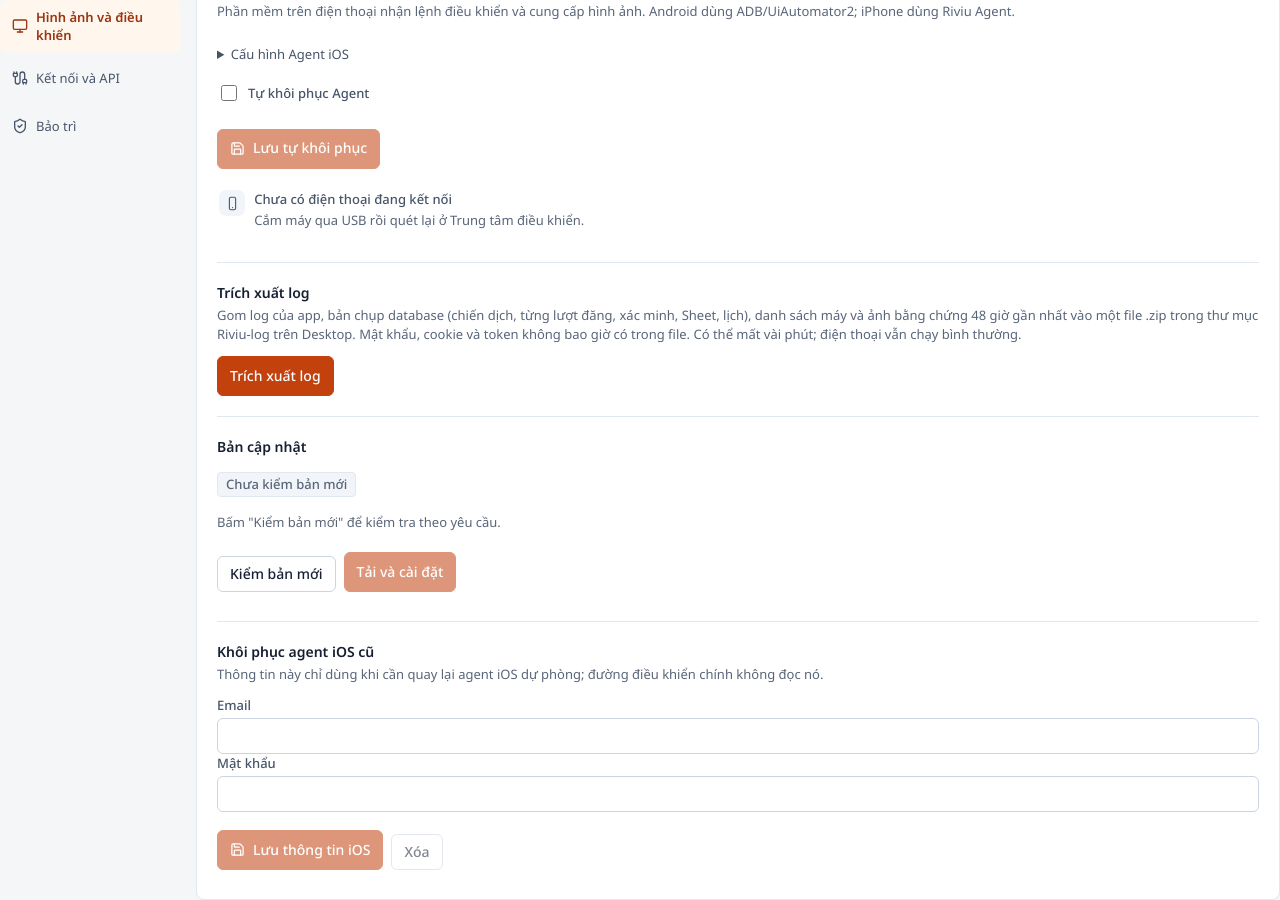
SettingsPanel update section › reports a surviving macOS install as success instead of an update error
This screenshot has width=1280, height=900.
(page scrolled)
Click the button "Kiểm bản mới" at [276, 574], box x1=217 y1=556 x2=336 y2=592
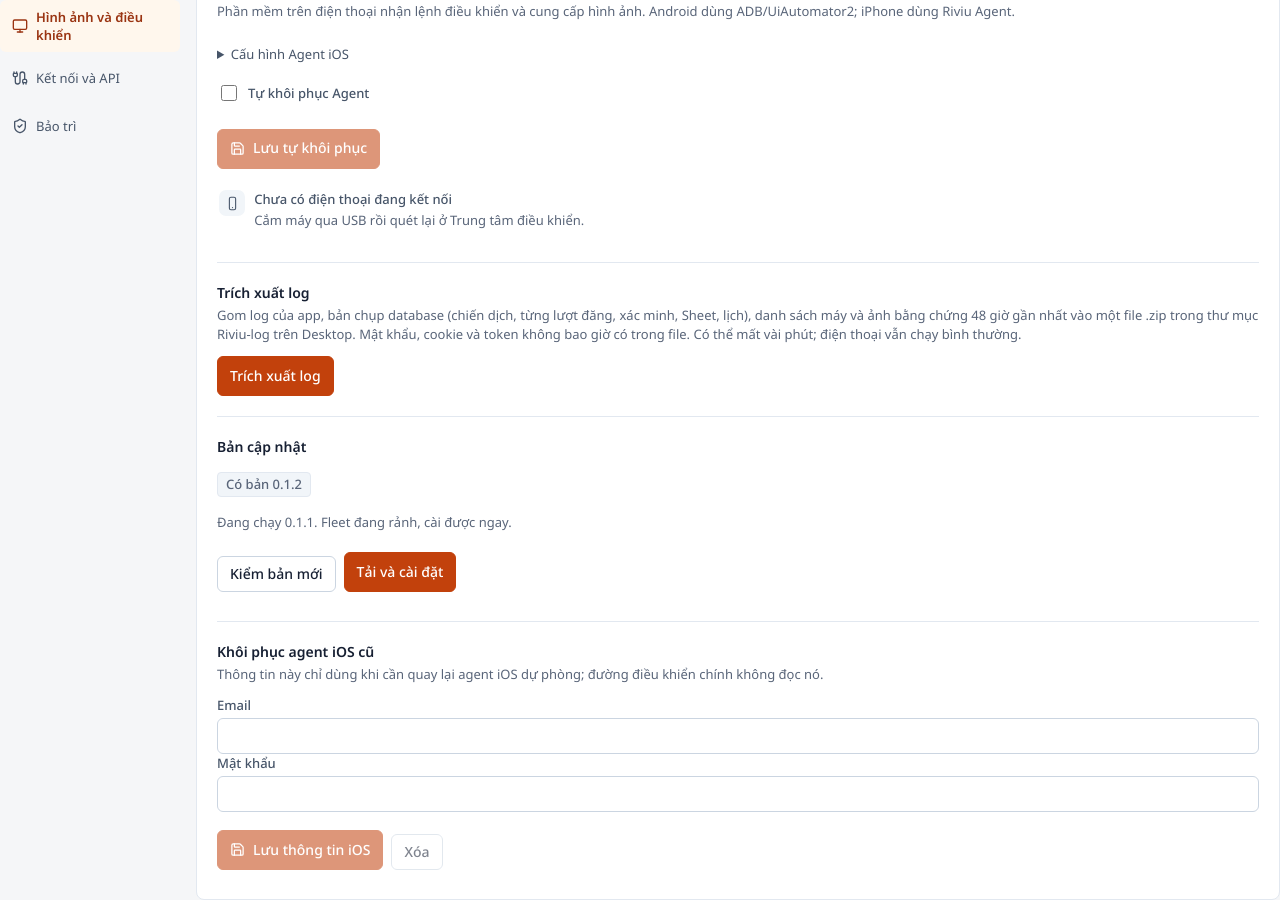
Result: the button "Tải và cài đặt" is enabled
Click the button "Tải và cài đặt" at [400, 572], box x1=344 y1=552 x2=456 y2=592
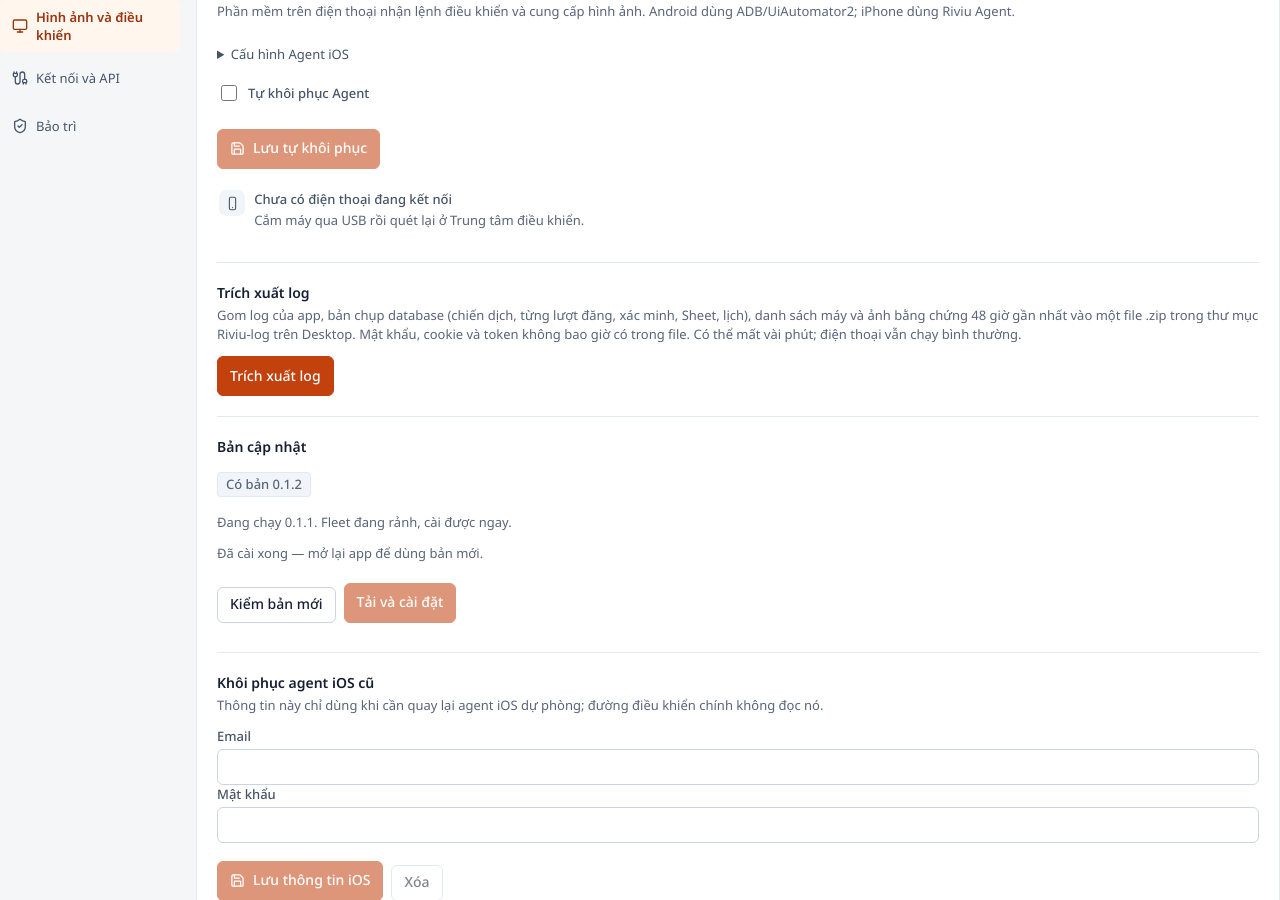
Result: the text "Đã cài xong — mở lại app để dùng bản mới." is shown at x1=217 y1=544 x2=483 y2=562
Result: the button "Tải và cài đặt" is disabled at x1=344 y1=583 x2=456 y2=623
